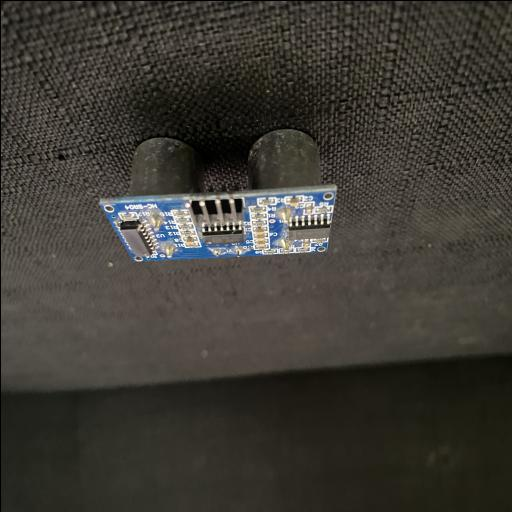Ultrasonic Sensor: (98, 127, 336, 262)
